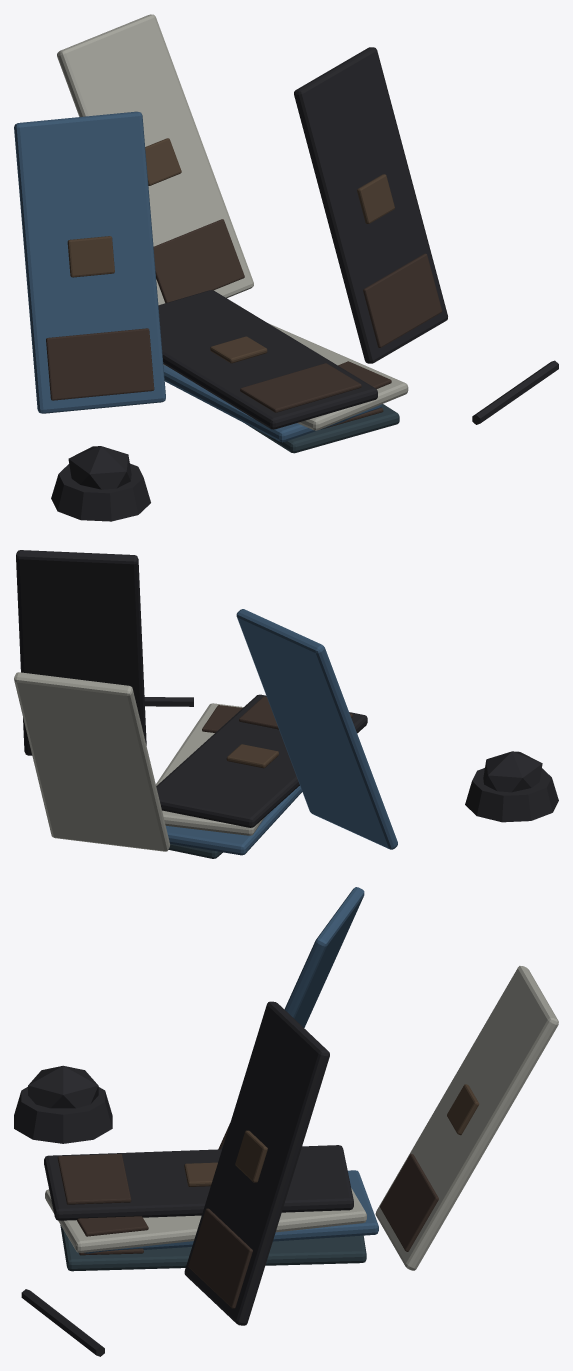
Rendered from riot_shield_pile.glb.
3 renders of one model, top to bottom at view 1: azimuth 30°, elevation 25°; view 2: azimuth 150°, elevation 25°; view 3: azimuth 270°, elevation 25°, orthographic. The views are drawn at different scales.
Parts seen in each view (by area): view 1: riot_shield_pile; view 2: riot_shield_pile; view 3: riot_shield_pile.
Boxes of the visible parts, x1,y1,x2,y2 form: riot_shield_pile: (14,14,558,521); riot_shield_pile: (14,550,558,858); riot_shield_pile: (14,887,558,1356).
Size of what is drawn, in the model's own units: 2.37 by 1.16 by 2.1.
2 materials, 2 textured.
